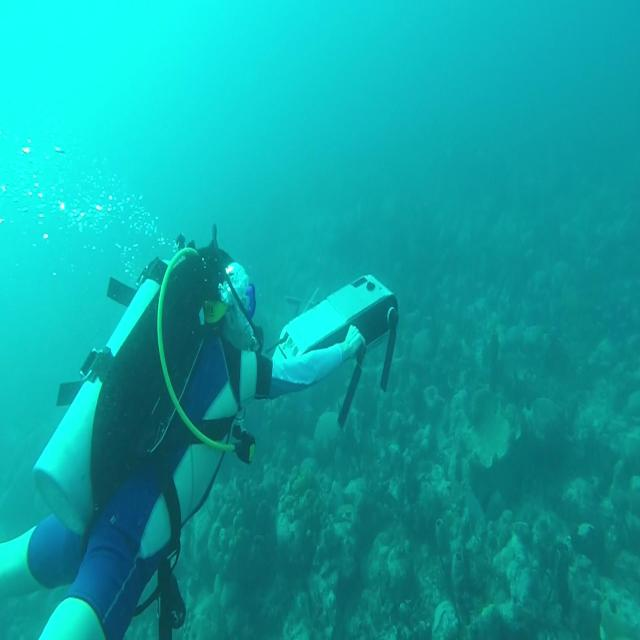human: (2, 223, 371, 638)
